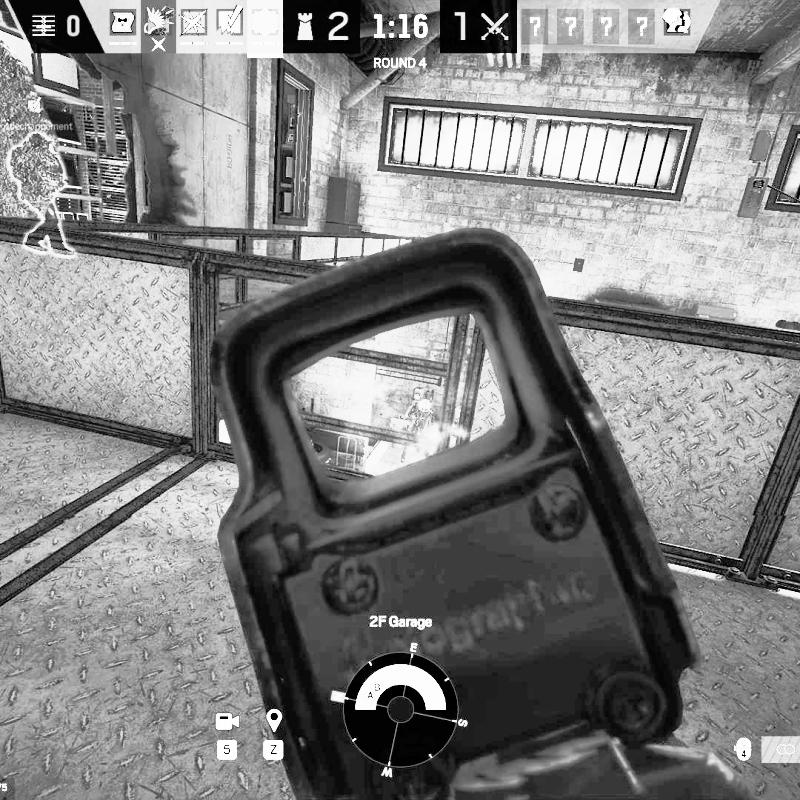Character: (399, 399, 439, 463)
Friend_label: (1, 97, 75, 131)
Head: (418, 398, 432, 412)
